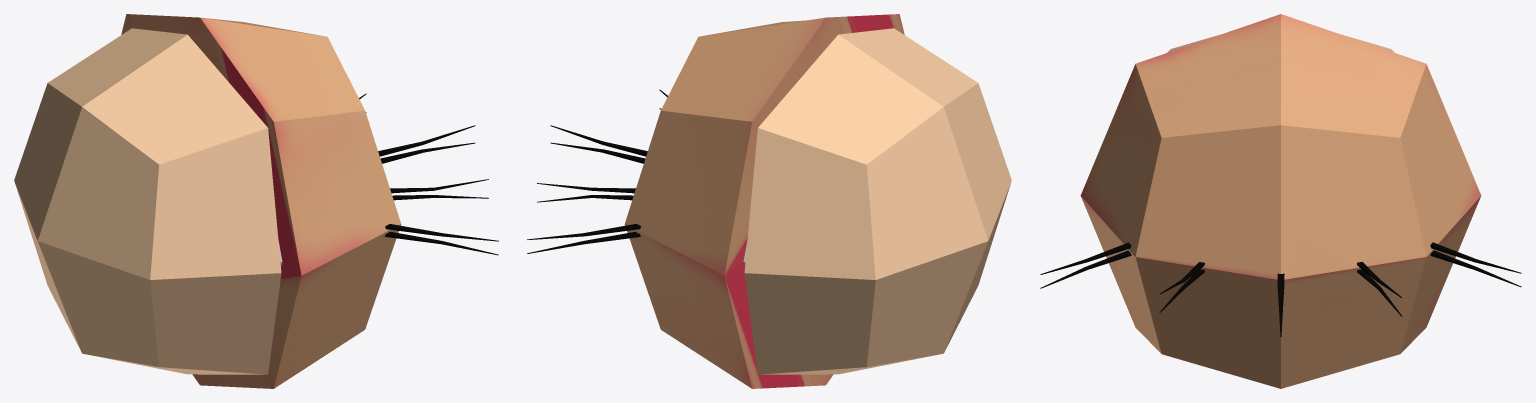
The model's file is eye.glb.
3 views of the same model, side by side, from view 1: azimuth 30°, elevation 25°; view 2: azimuth 150°, elevation 25°; view 3: azimuth 270°, elevation 25° (orthographic).
Visible parts, largest first — view 1: backofeye, top_eyelid, low_eyelid; view 2: backofeye, top_eyelid, low_eyelid; view 3: top_eyelid, low_eyelid.
Part boxes in pixels (bbox=[...]): backofeye: bbox=[14, 28, 281, 374]; top_eyelid: bbox=[121, 14, 498, 275]; low_eyelid: bbox=[192, 112, 498, 388]; backofeye: bbox=[744, 28, 1011, 374]; top_eyelid: bbox=[527, 14, 904, 275]; low_eyelid: bbox=[527, 108, 833, 388]; top_eyelid: bbox=[1040, 14, 1521, 319]; low_eyelid: bbox=[1040, 196, 1521, 388].
Size of the model in its own units: 2.32 by 1.86 by 2.24.
12 materials, 4 textured.
